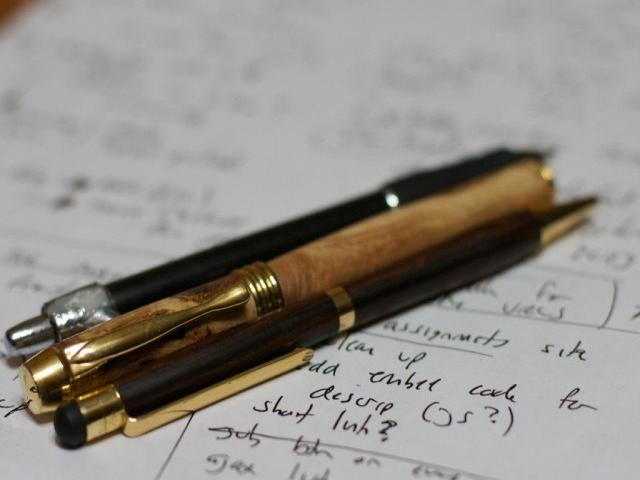PEN: (1, 164, 583, 443)
